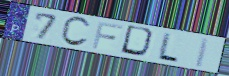7: (33, 11, 59, 40)
C: (58, 16, 93, 48)
D: (118, 24, 158, 59)
F: (90, 20, 125, 50)
I: (192, 36, 212, 70)
L: (156, 31, 181, 64)
